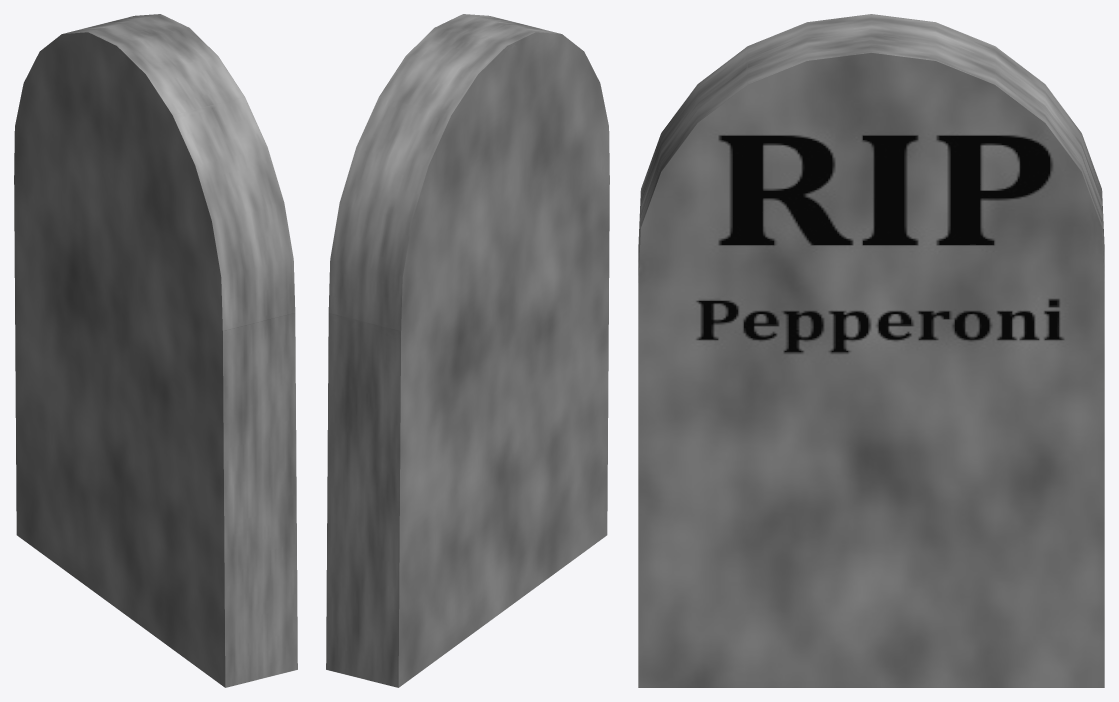
Rendered from Gravestone pepporoni.dae.
3 renders of one model, left to right at view 1: azimuth 30°, elevation 25°; view 2: azimuth 150°, elevation 25°; view 3: azimuth 270°, elevation 25°, orthographic. The views are drawn at different scales.
Parts seen in each view (by area): view 1: SketchUp; view 2: SketchUp; view 3: SketchUp.
Boxes of the visible parts, x1,y1,x2,y2 form: SketchUp: (14, 14, 297, 687); SketchUp: (326, 14, 609, 687); SketchUp: (638, 14, 1104, 687).
Bounding box in the file's own units: 0.0341 × 0.161 × 0.2413.
Materials: 1 (1 with a texture image).
